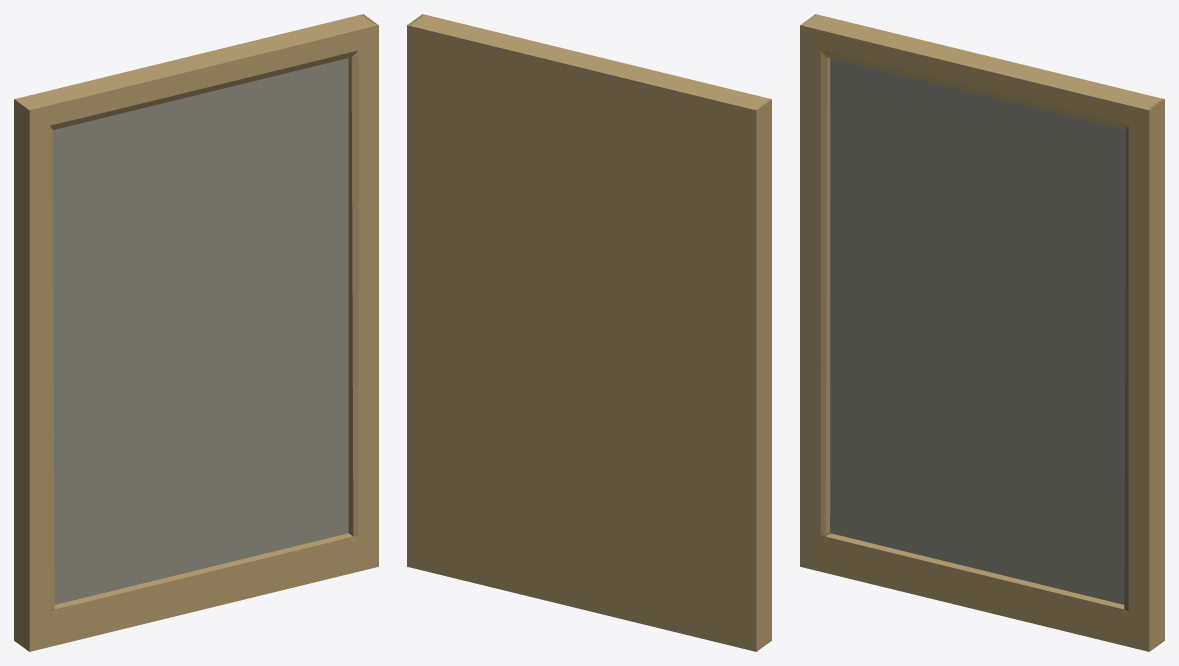
The model's file is Wall.fbx.
The picture shows the model from 3 angles, left to right: view 1: azimuth 30°, elevation 25°; view 2: azimuth 150°, elevation 25°; view 3: azimuth 330°, elevation 25°; orthographic projection.
Visible parts, largest first — view 1: Wall; view 2: Wall; view 3: Wall.
Part boxes in pixels (x1,y1,x2,y2): Wall: (14,14,378,651); Wall: (407,14,771,651); Wall: (800,14,1164,651).
Bounding box in the file's own units: 266 × 394 × 20.36.
